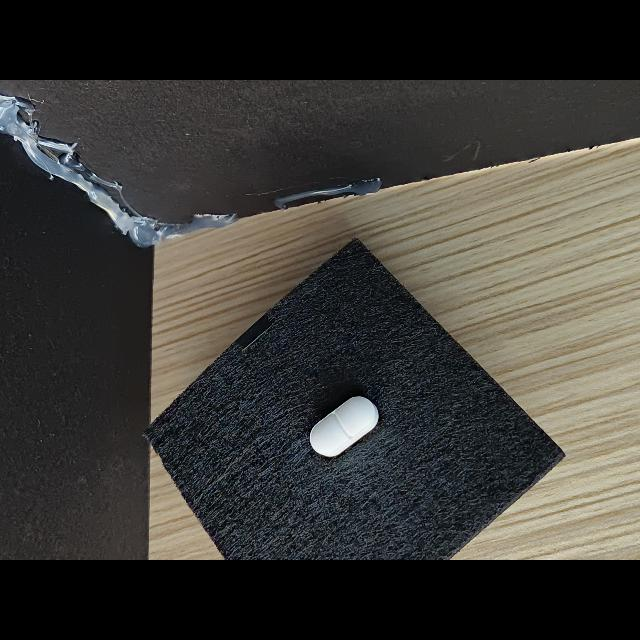Intact Pill: (310, 396, 379, 457)
